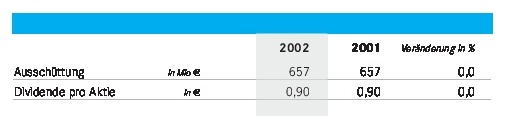table: (0, 0, 505, 128)
